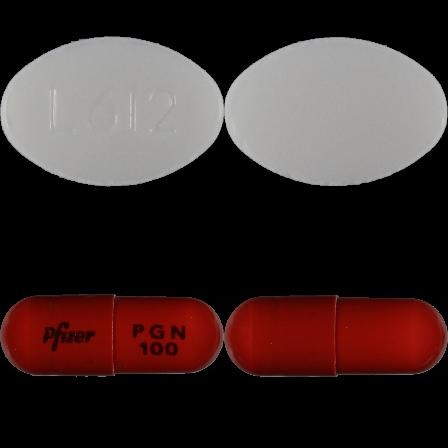52959-740: (0, 0, 224, 224)
